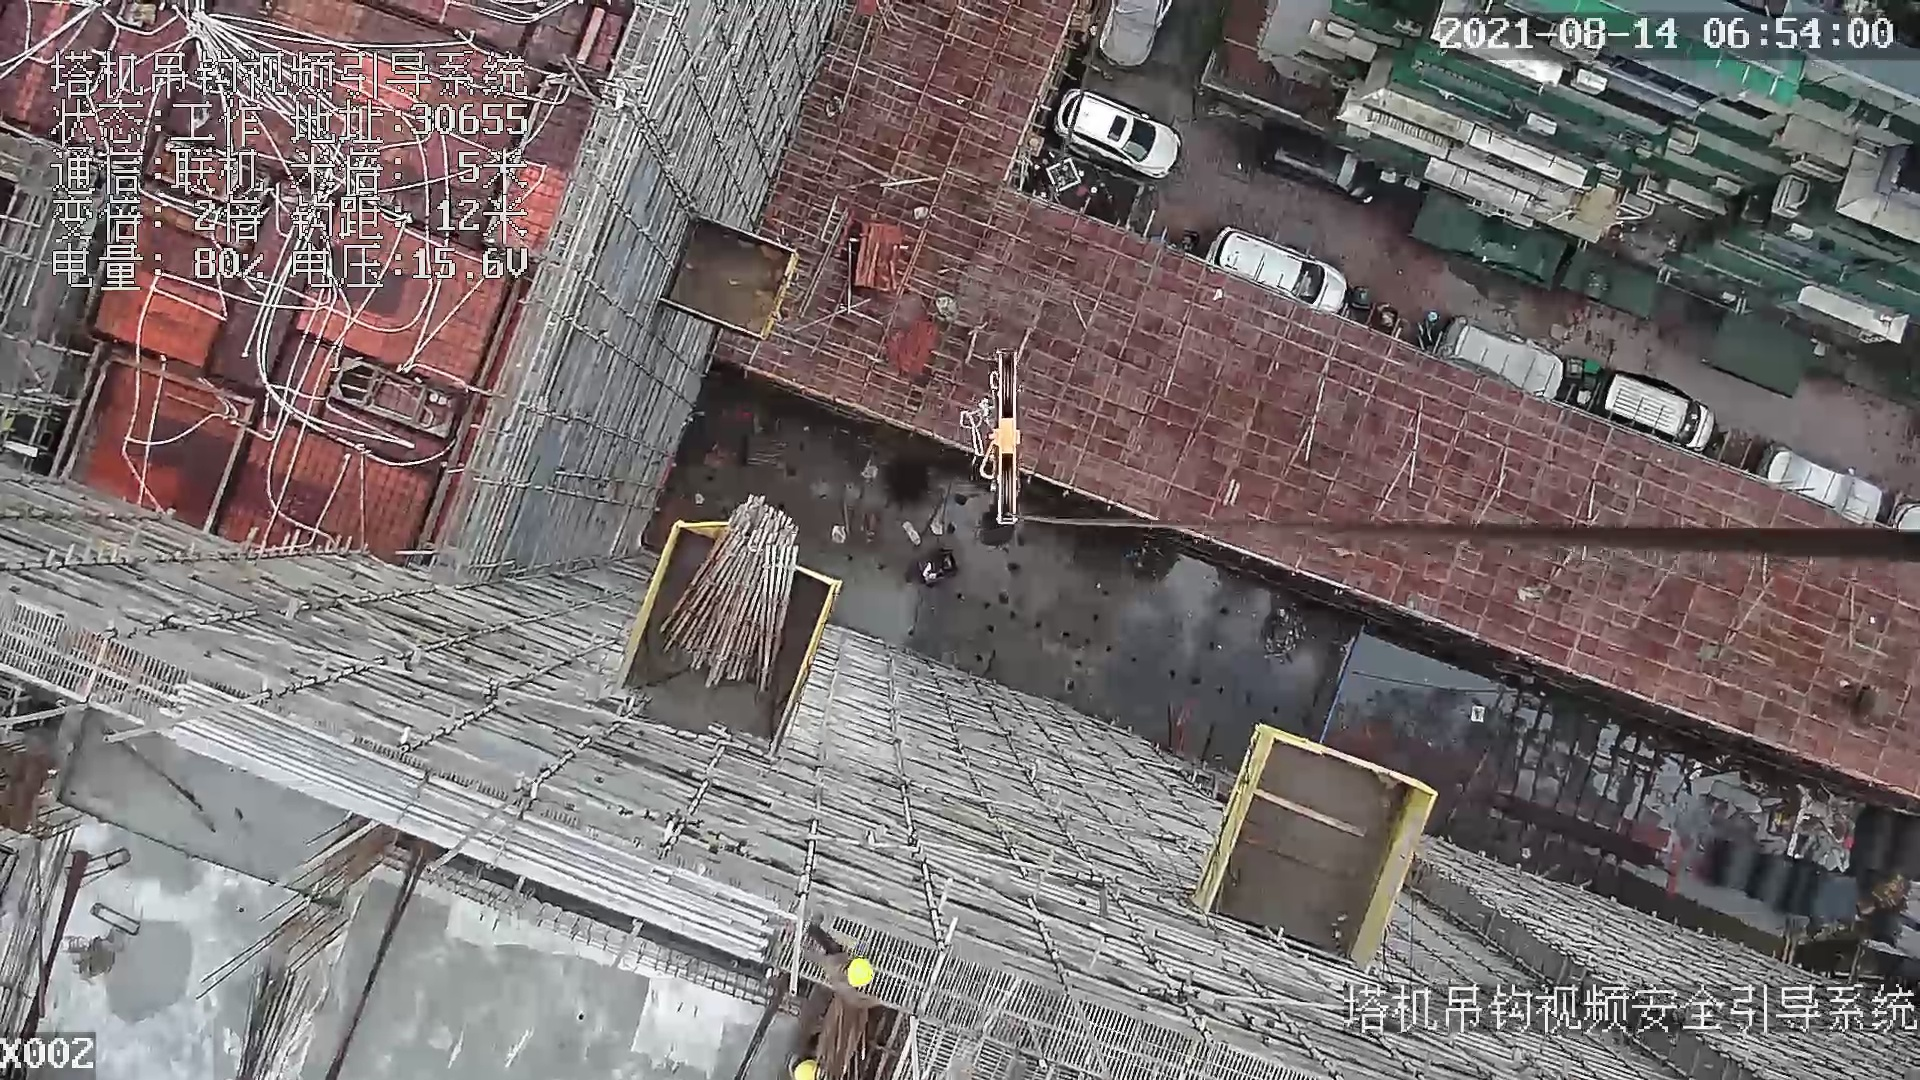helmet: (848, 960, 874, 987), (794, 1060, 818, 1080)
hook: (974, 346, 1029, 530)
person: (803, 919, 892, 1010), (787, 1046, 827, 1076)
rebar: (150, 681, 778, 962), (231, 965, 319, 1080)
scaffold: (657, 495, 799, 693)
